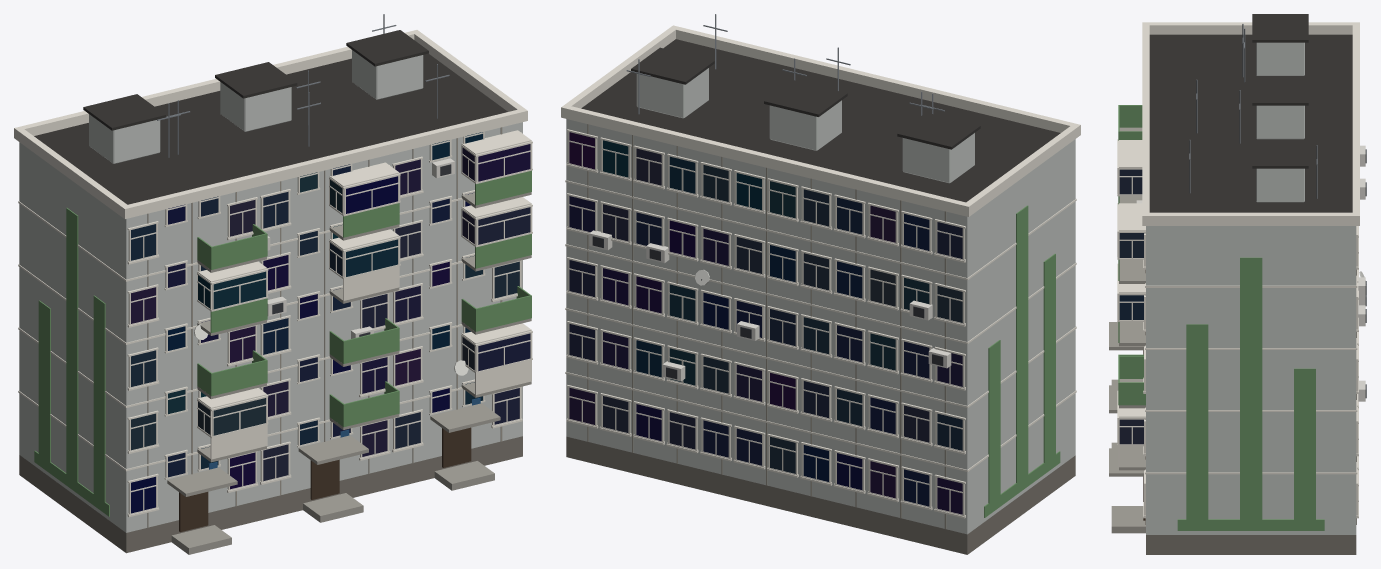
Rendered from block_c.glb.
3 views of the same model, side by side, from view 1: azimuth 30°, elevation 25°; view 2: azimuth 150°, elevation 25°; view 3: azimuth 270°, elevation 25° (orthographic). The views are drawn at different scales.
Visible parts, largest first — view 1: block_c; view 2: block_c; view 3: block_c.
Boxes of the visible parts, x1=… form: block_c: x1=14, y1=14, x2=532, y2=554; block_c: x1=561, y1=14, x2=1080, y2=554; block_c: x1=1109, y1=14, x2=1366, y2=554.
Size of the model in its own units: 18.7 by 17.34 by 10.52.
